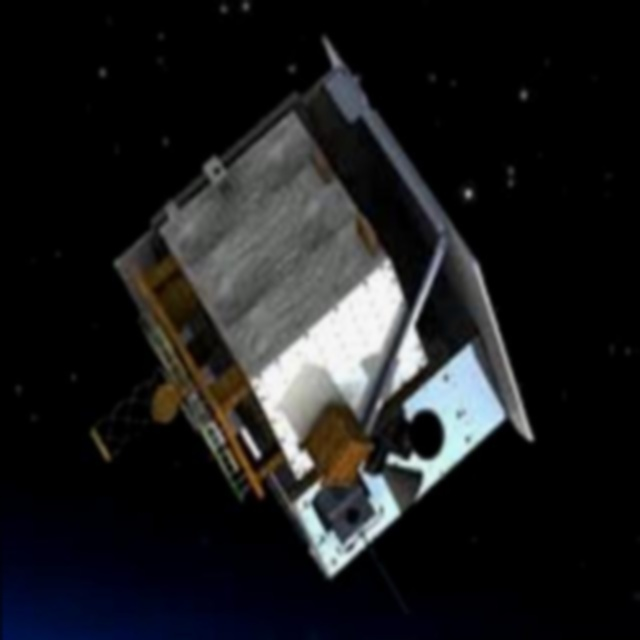satellite: (87, 35, 574, 611)
